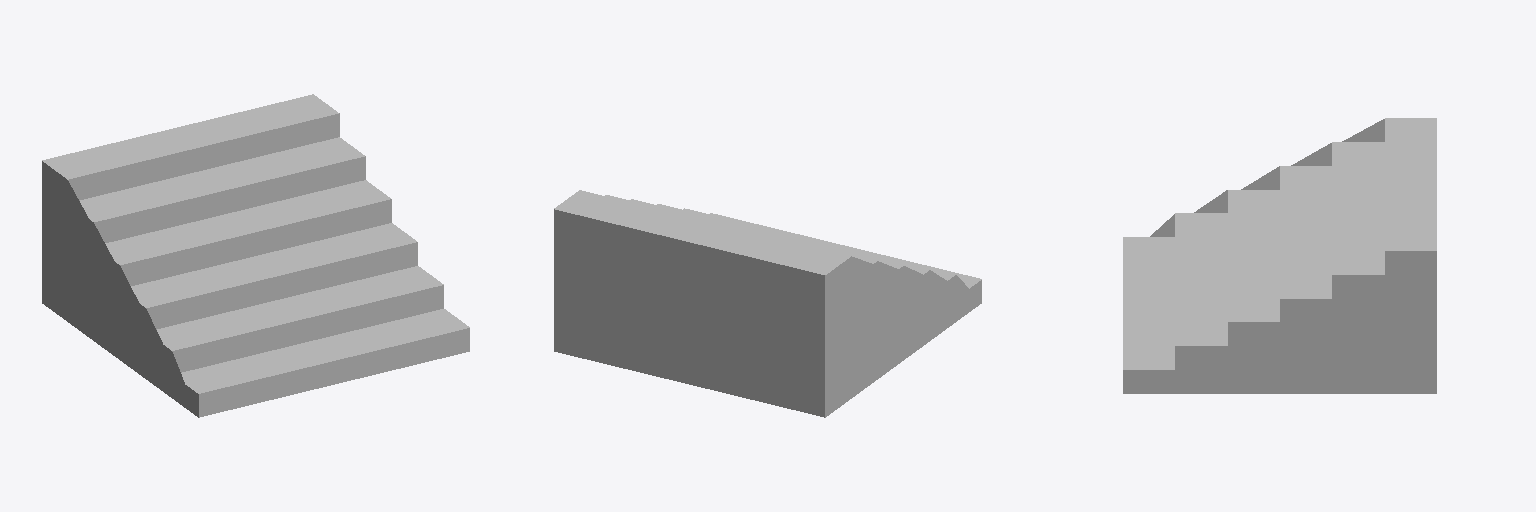
Rendered from stairs.obj.
3 views of the same model, side by side, from view 1: azimuth 30°, elevation 25°; view 2: azimuth 150°, elevation 25°; view 3: azimuth 270°, elevation 25° (orthographic).
Parts seen in each view (by area): view 1: Stairs; view 2: Stairs; view 3: Stairs.
Part boxes in pixels (bbox=[...]): Stairs: bbox=[42, 94, 469, 417]; Stairs: bbox=[554, 190, 981, 417]; Stairs: bbox=[1123, 118, 1436, 393].
Bounding box in the file's own units: 2 × 1 × 2.